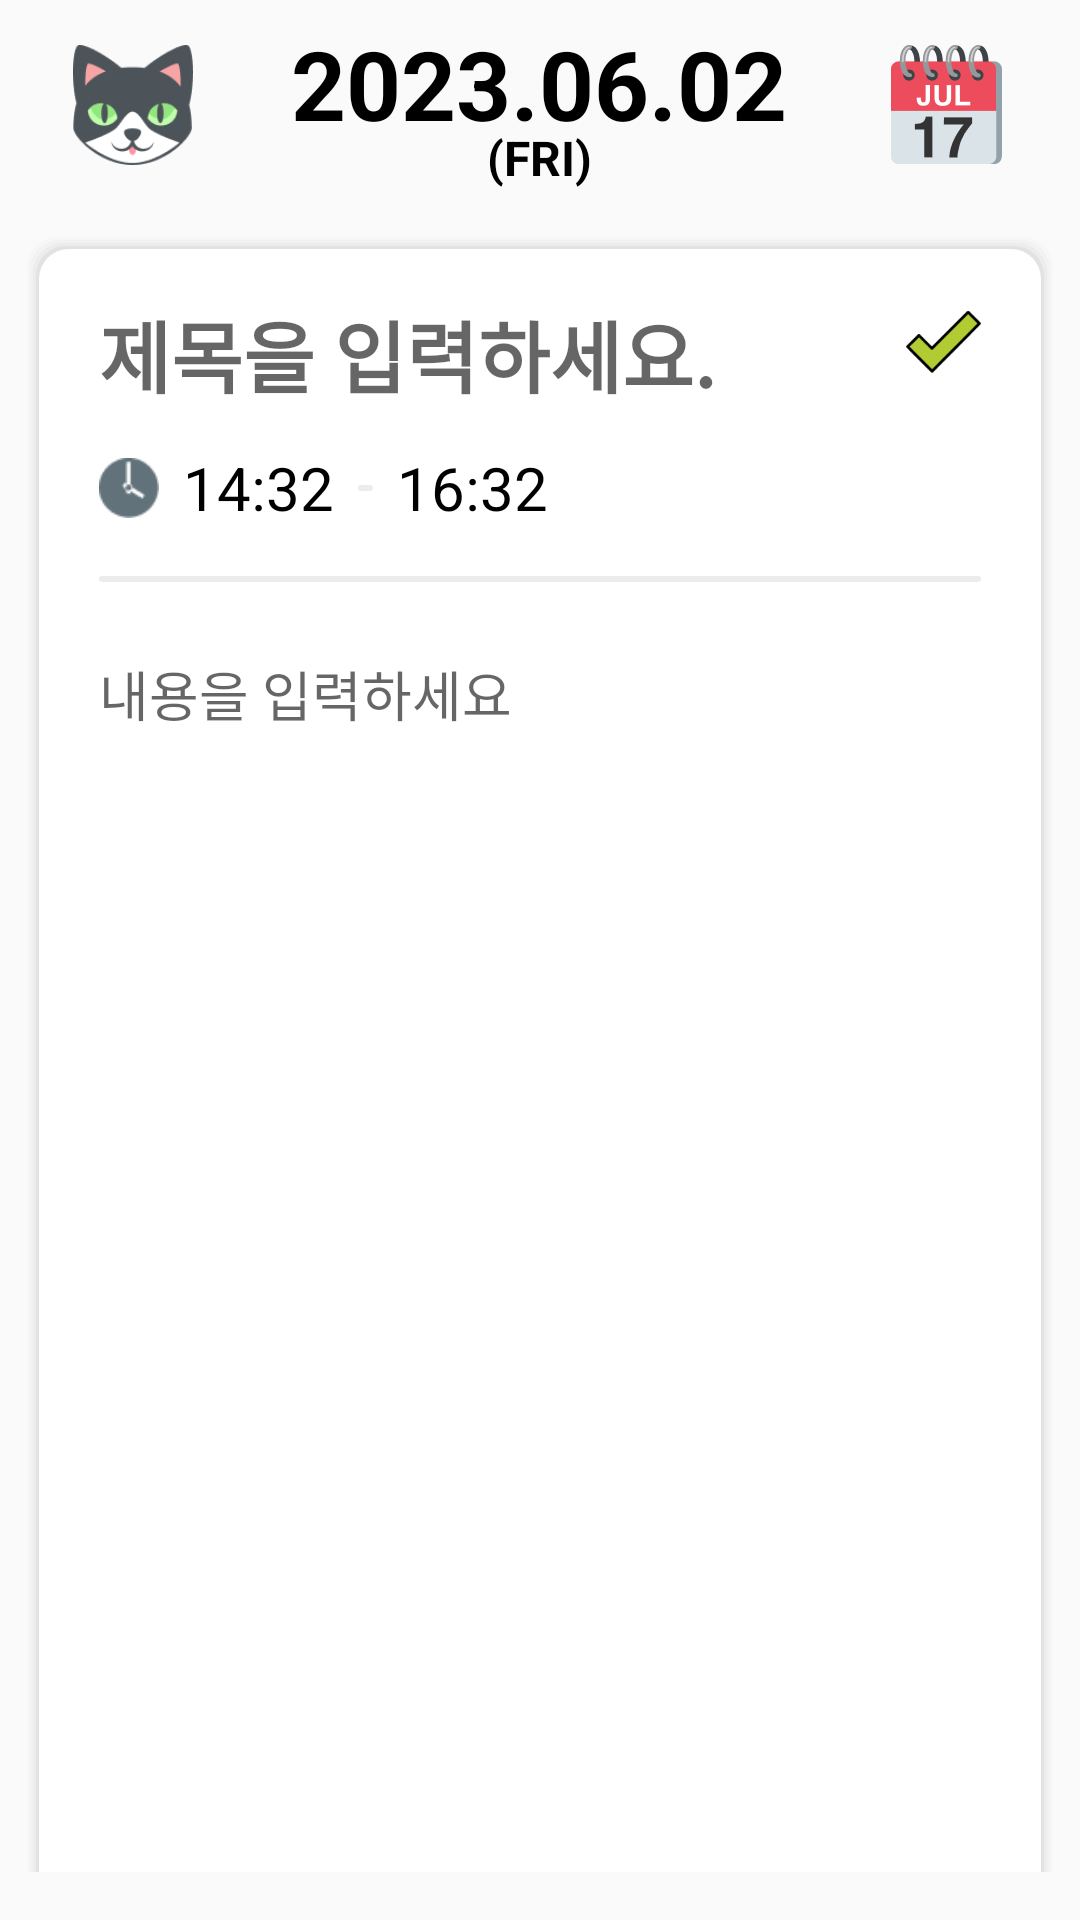

Icon click points for this 1080*1920 phone screenshot, format point (x, y):
emojical: point (946, 104)
emojicat: point (133, 105)
emojicheck: point (943, 342)
emojiclock: point (129, 488)
